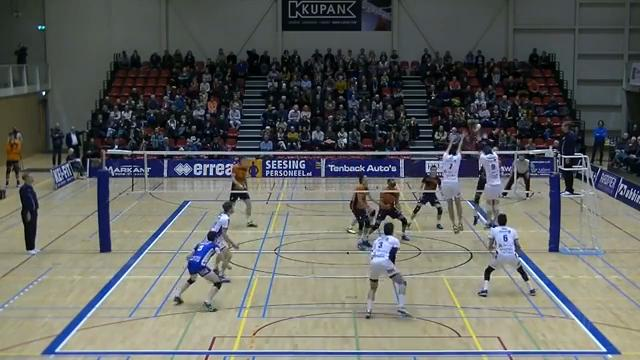attacco: (471, 119, 488, 226)
muro: (436, 129, 472, 236), (473, 126, 503, 232)
